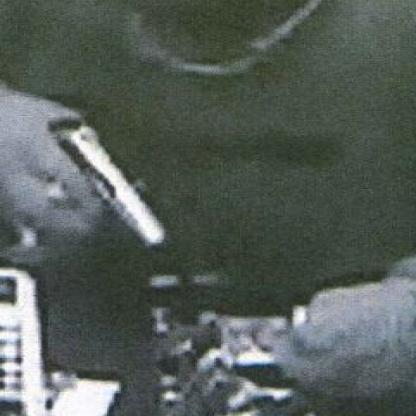gun: (0, 118, 180, 254)
